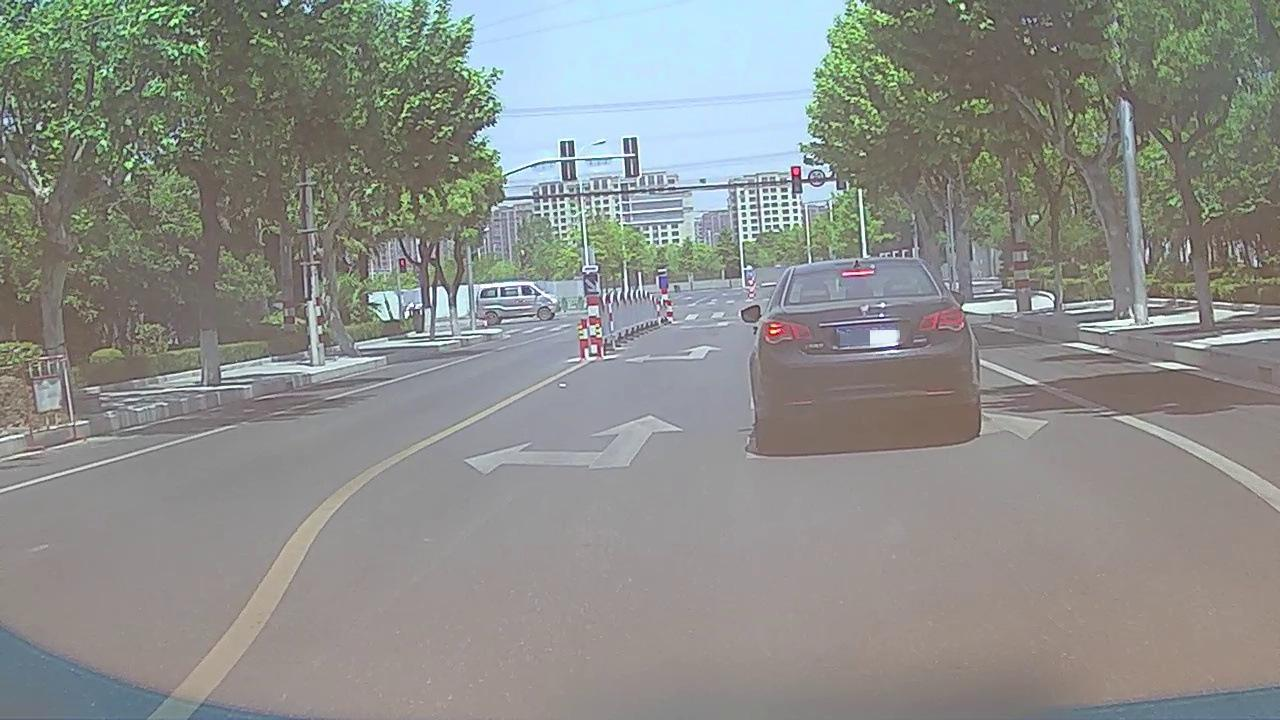traffic_light: (789, 166, 802, 194)
